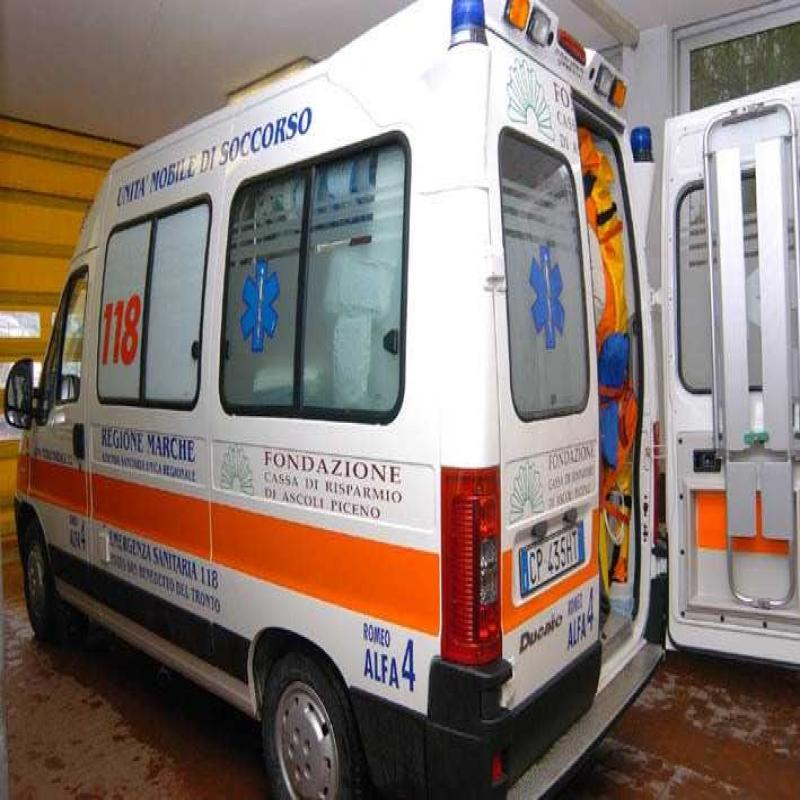AmbulanceSiren: (437, 0, 495, 58), (631, 107, 661, 185)
